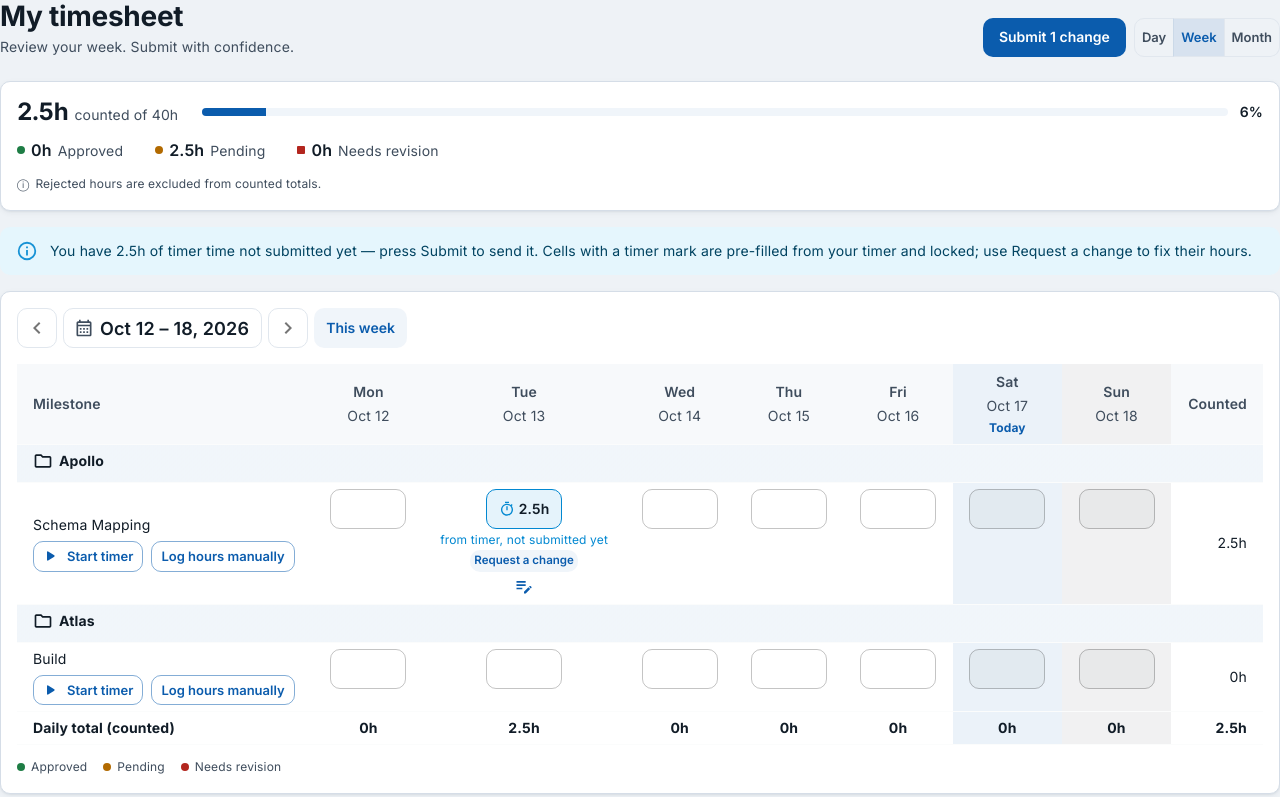
Test case: timesheet: timer drafts are pre-filled, locked and submitted with the Submit button › Request a change sends the hours and the reason
Click the button with aria-label "Request a change, Schema Mapping, Tue Oct 13" at (524, 561), box x1=470 y1=550 x2=578 y2=572
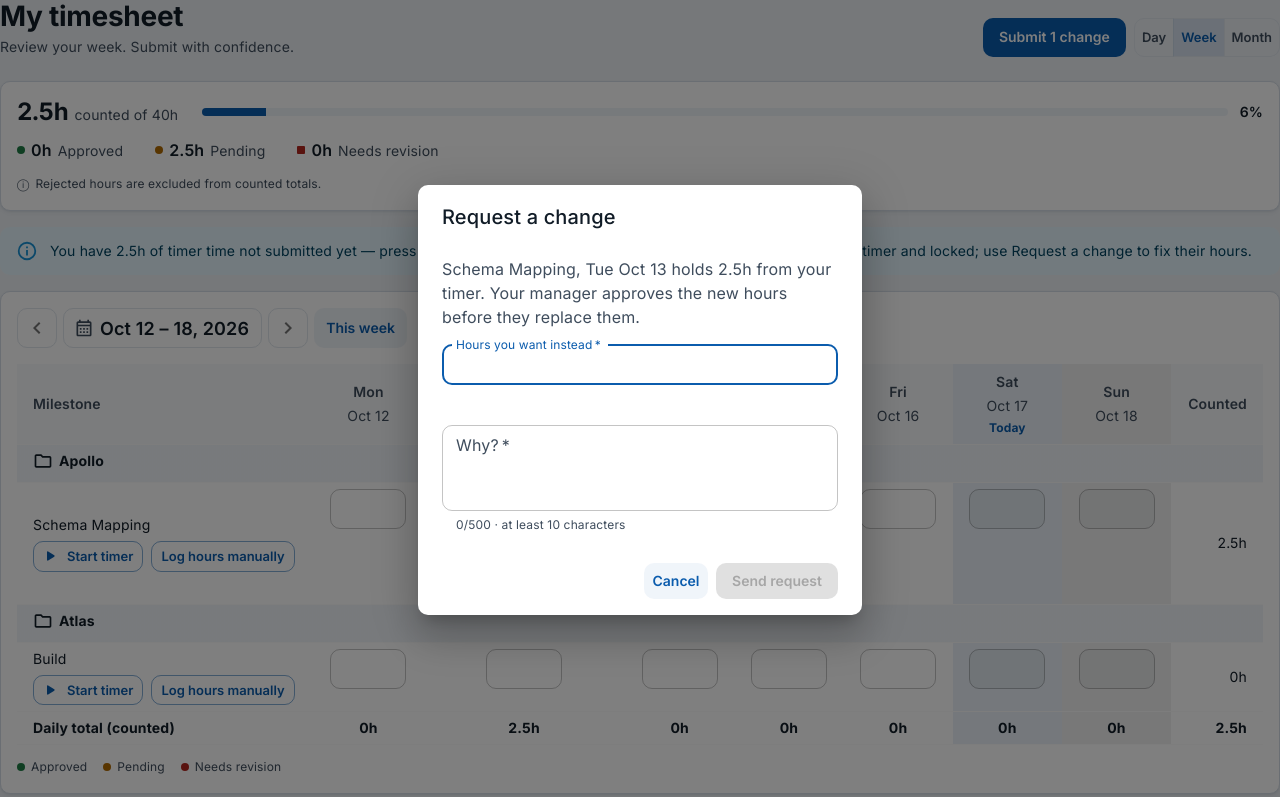
Type "2.5" into the field labelled "Hours you want instead *" at (640, 365), box x1=442 y1=345 x2=838 y2=385
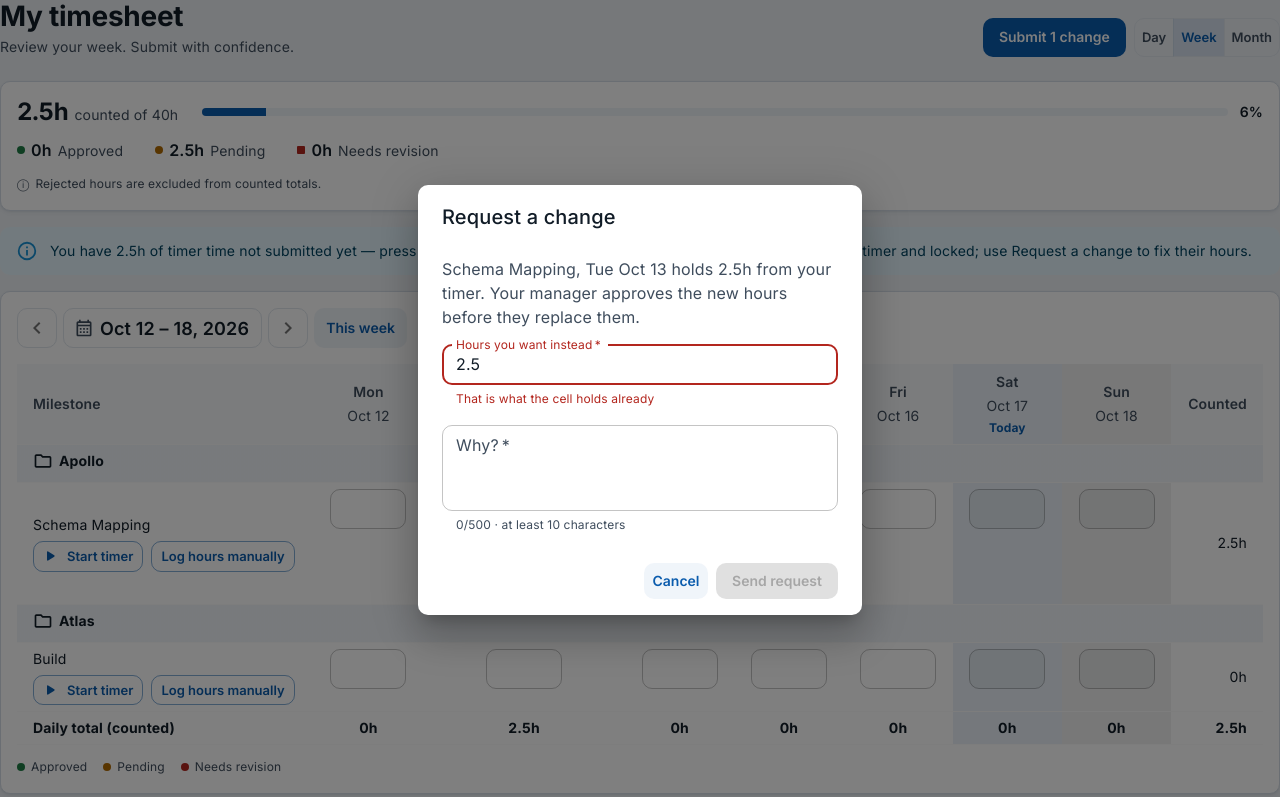
Expected: the text "That is what the cell holds already" is shown, x1=456 y1=391 x2=654 y2=406
Replace the text in the field labelled "Hours you want instead *" with "1.5" at (640, 365), box x1=442 y1=345 x2=838 y2=385
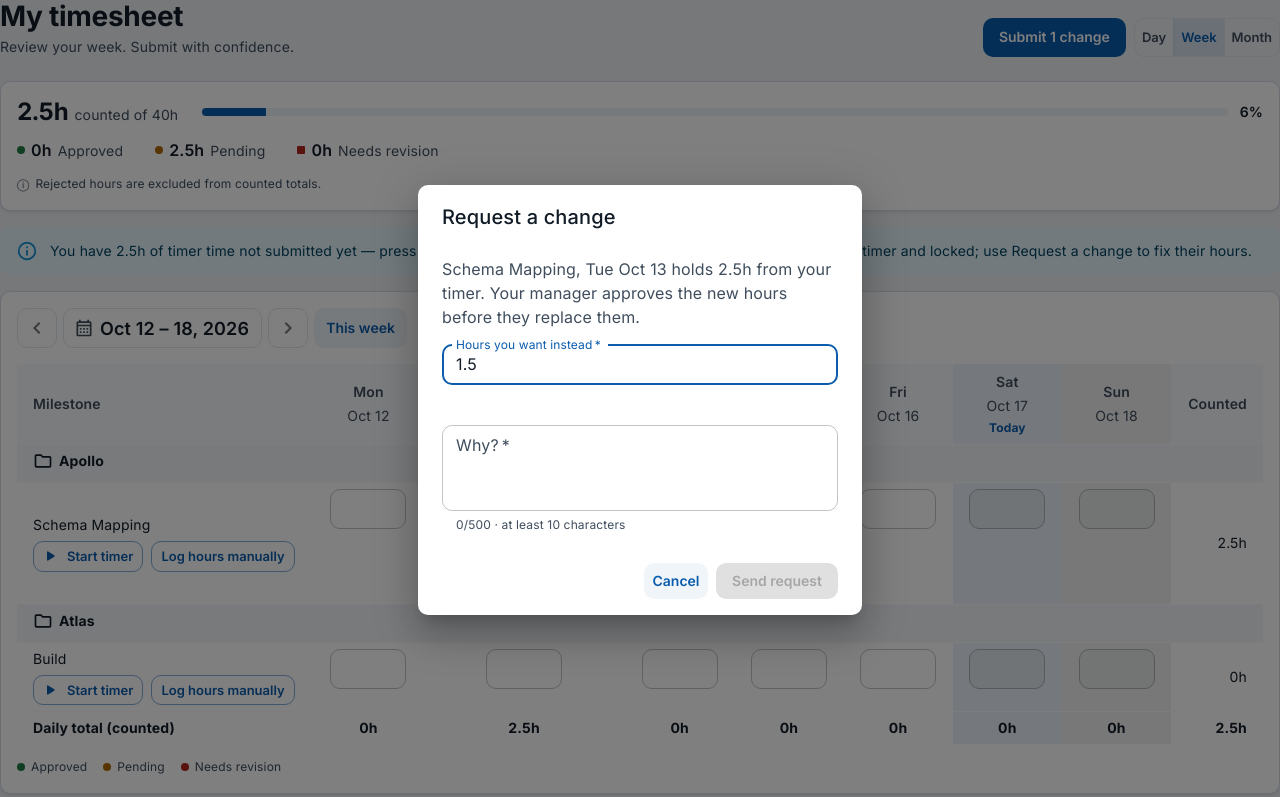
Type "too short" into the text box labelled "Why? *" at (640, 468), box x1=456 y1=433 x2=824 y2=502
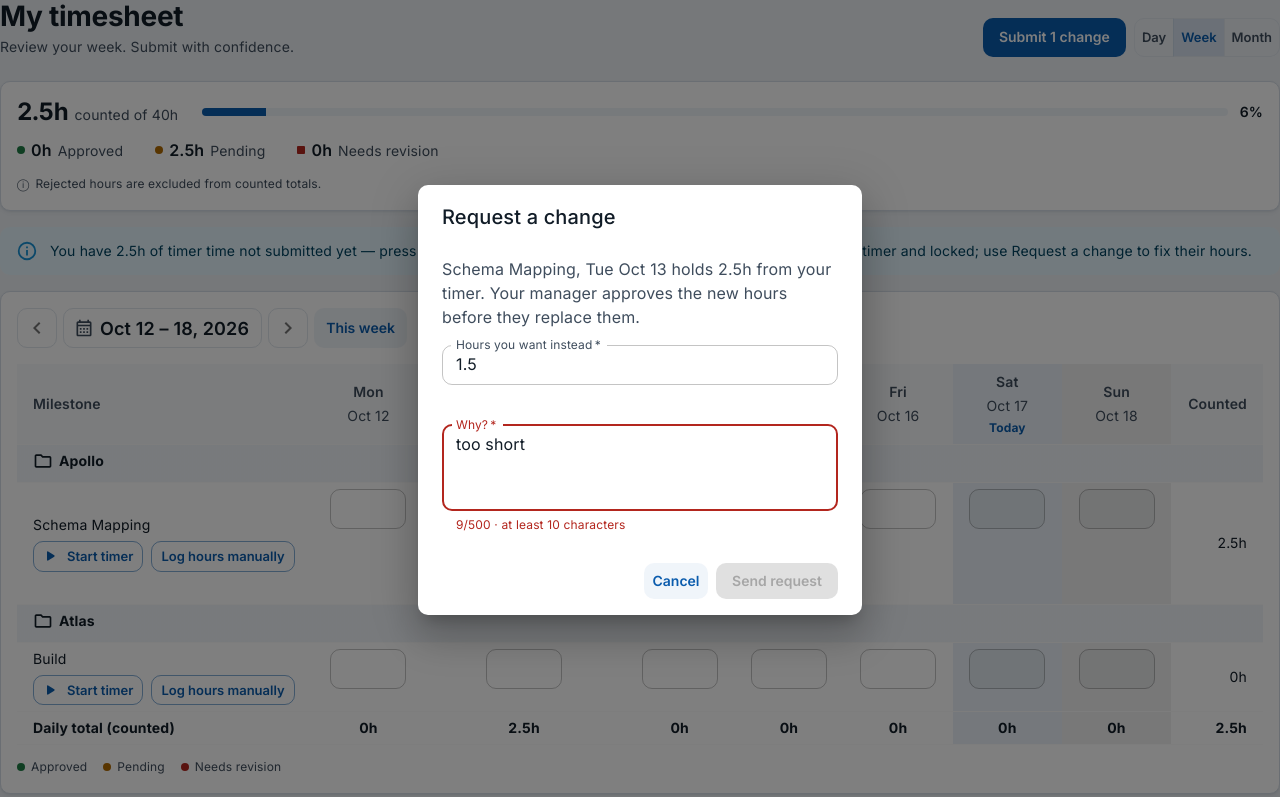
Expected: the button "Send request" is disabled, x1=716 y1=563 x2=838 y2=599
Type " — it ran over lunch" into the text box labelled "Why? *" at (640, 468), box x1=456 y1=433 x2=824 y2=502
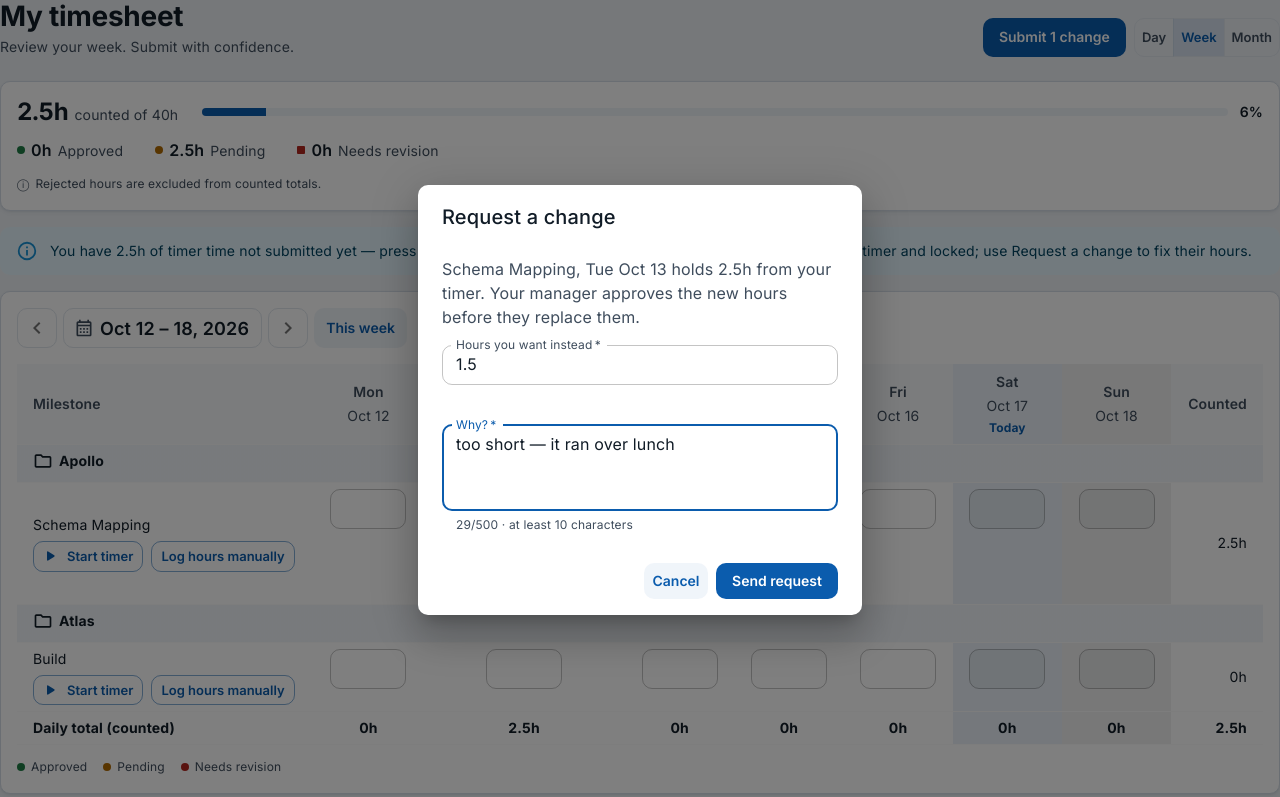
Click the button "Send request" at (777, 581), box x1=716 y1=563 x2=838 y2=599
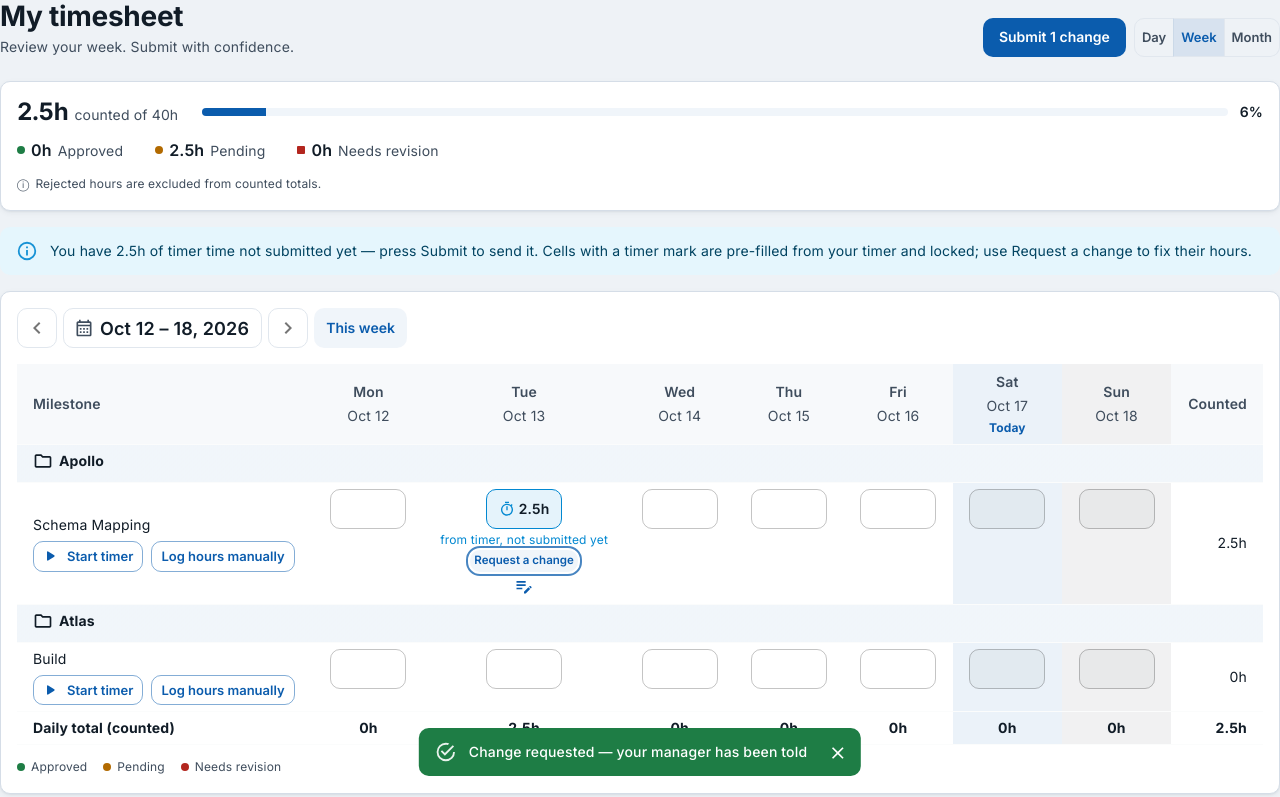
Expected: the dialog is gone
